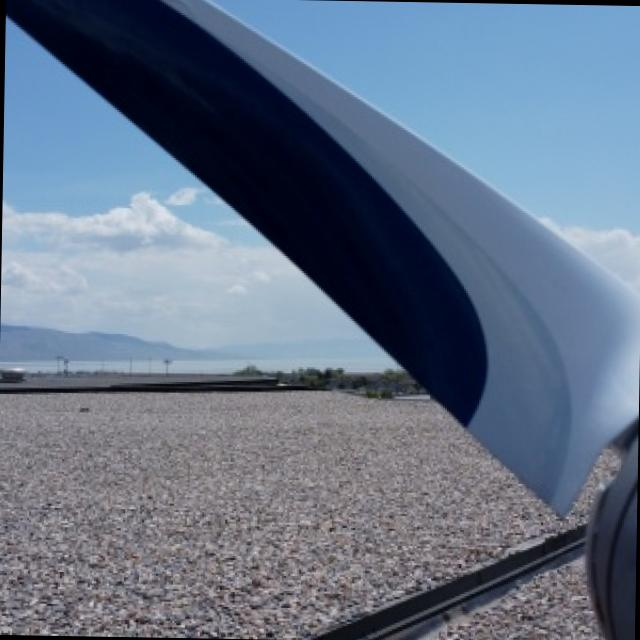healthy: (7, 0, 640, 639)
